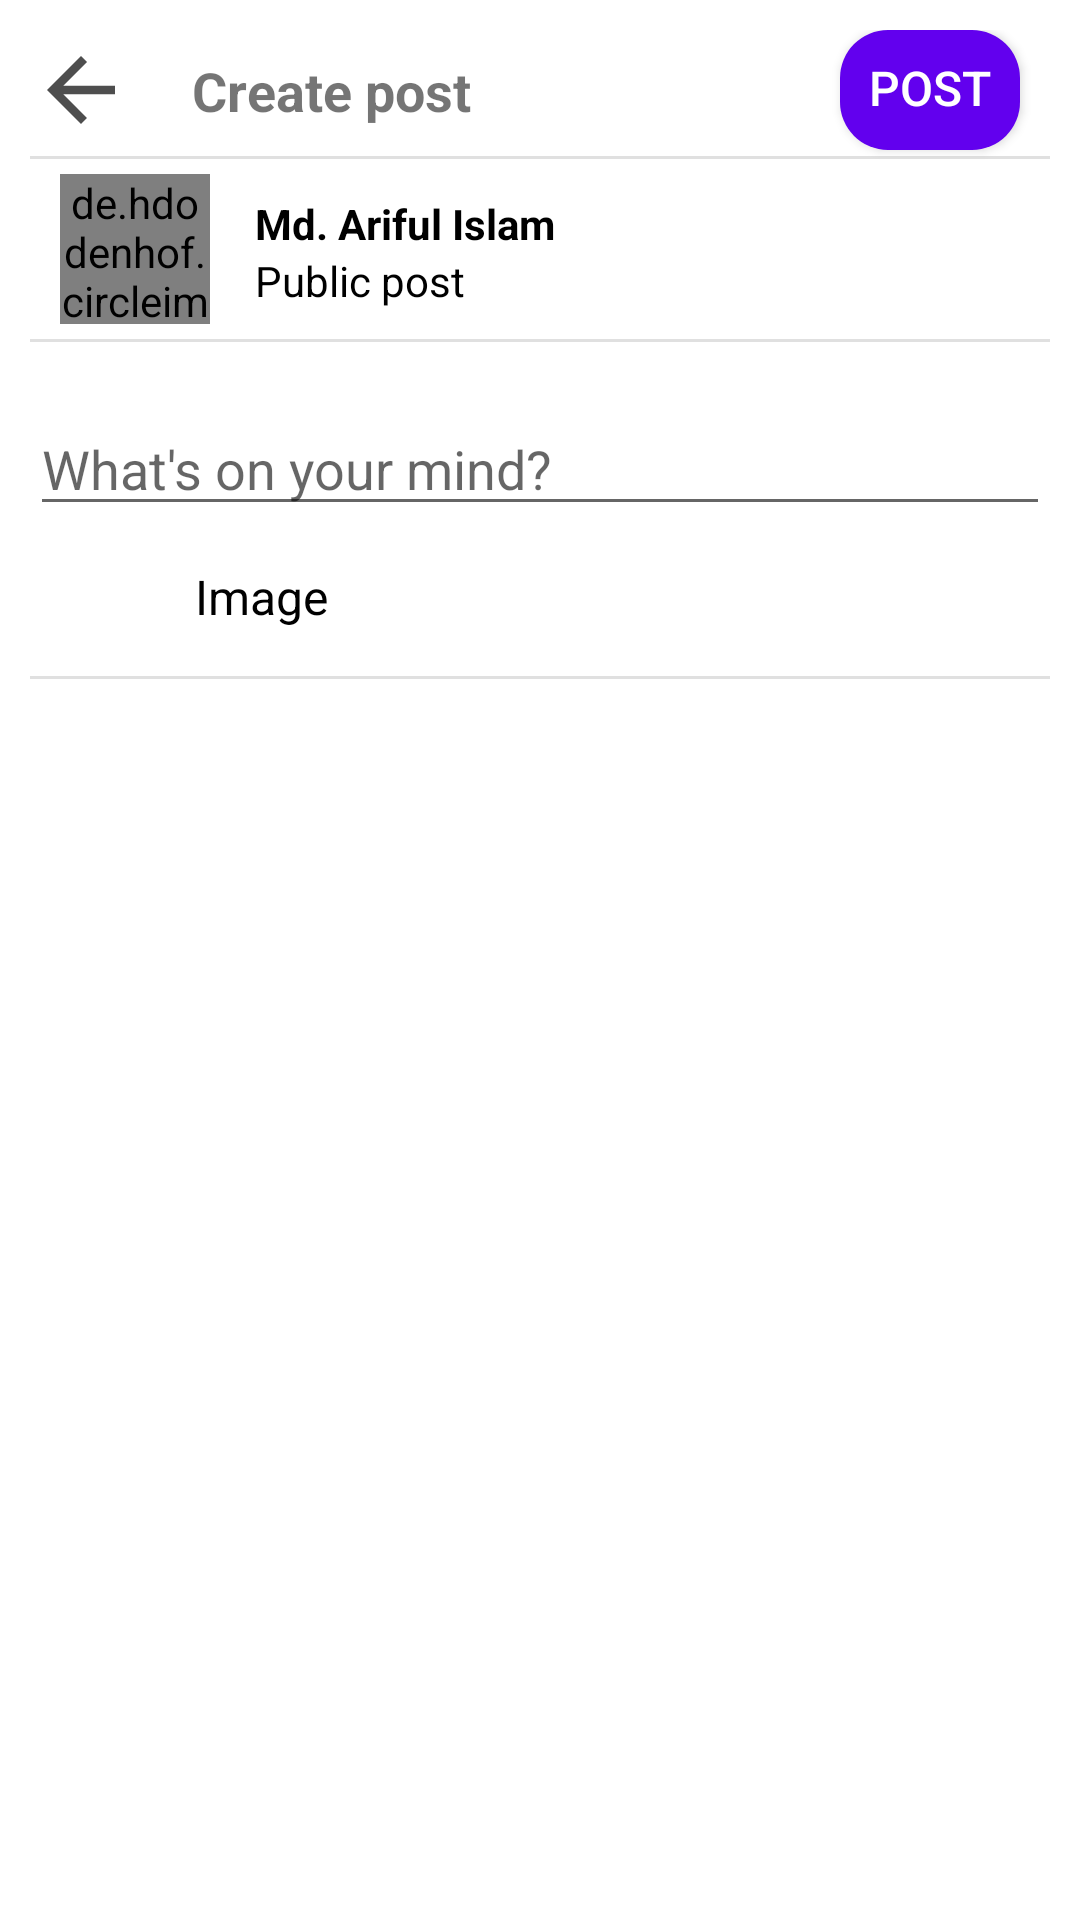

Icons on this 1080x1920 Android screen, each with the point to tap as [x,y]:
arrow back: [81,90]
